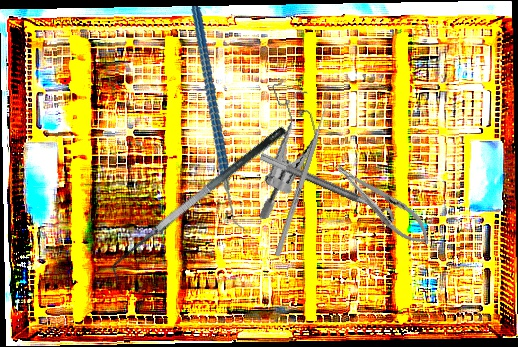Chopper: (158, 5, 284, 234)
Fixation Ring: (254, 151, 398, 232)
Needle Holder: (326, 153, 439, 254)
Pusher: (274, 97, 332, 257)
Spatula Surgical: (100, 124, 299, 285)
Speculum: (226, 71, 337, 221)
